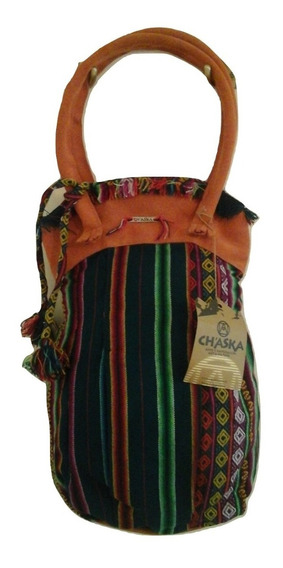cartera: (22, 26, 262, 536)
